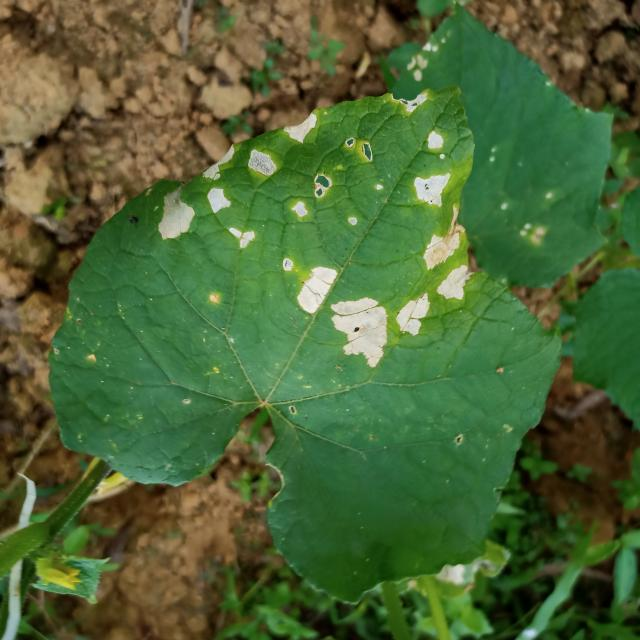disease_cucumber: (297, 258, 392, 372), (158, 182, 256, 254), (421, 229, 468, 305), (414, 128, 449, 210), (207, 148, 277, 182), (291, 173, 332, 220), (398, 289, 434, 339), (284, 111, 319, 146)
